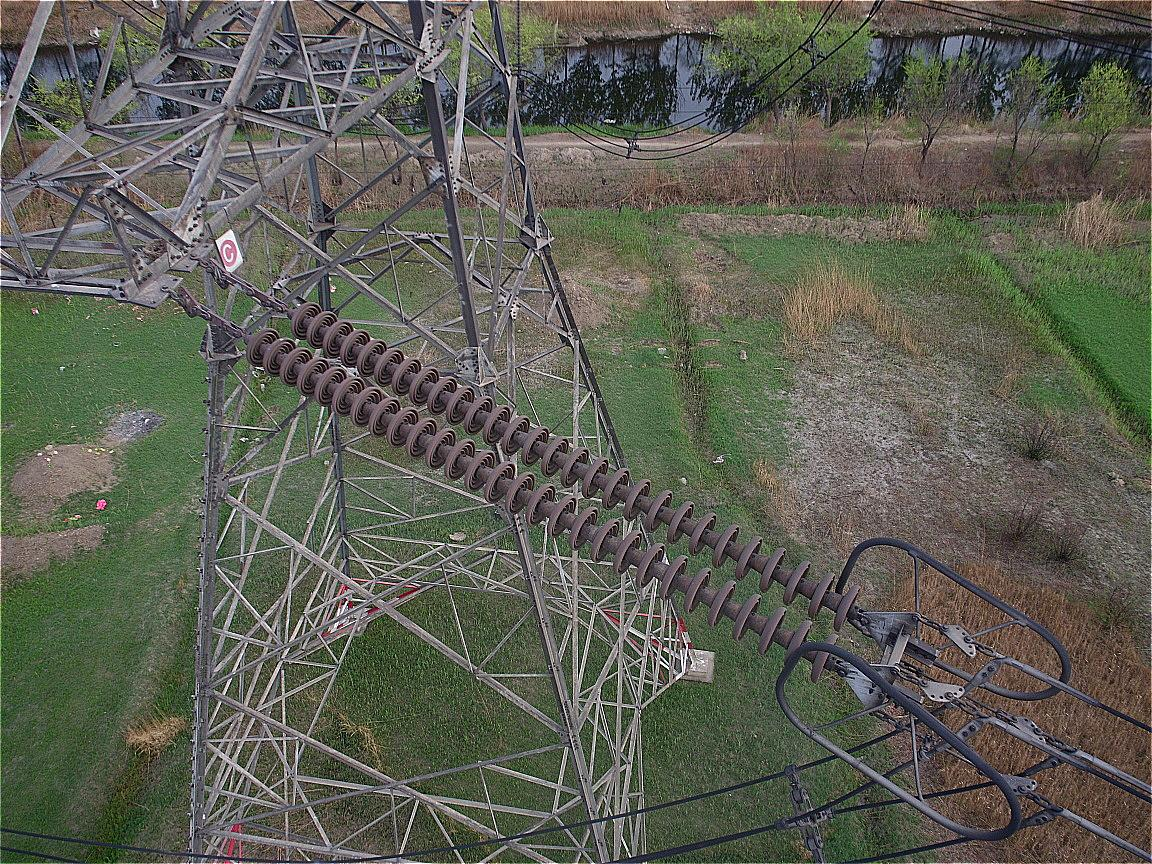insultor1: (248, 299, 861, 681)
